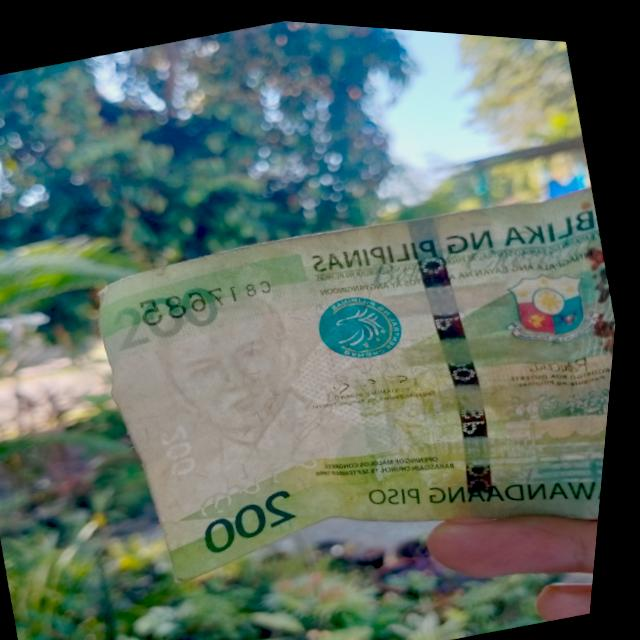security_thread: (390, 203, 531, 515)
see_through_mark: (196, 429, 349, 525)
serial_number: (126, 254, 293, 341)
value_watermark: (153, 409, 209, 483)
watermark: (142, 257, 365, 493)
